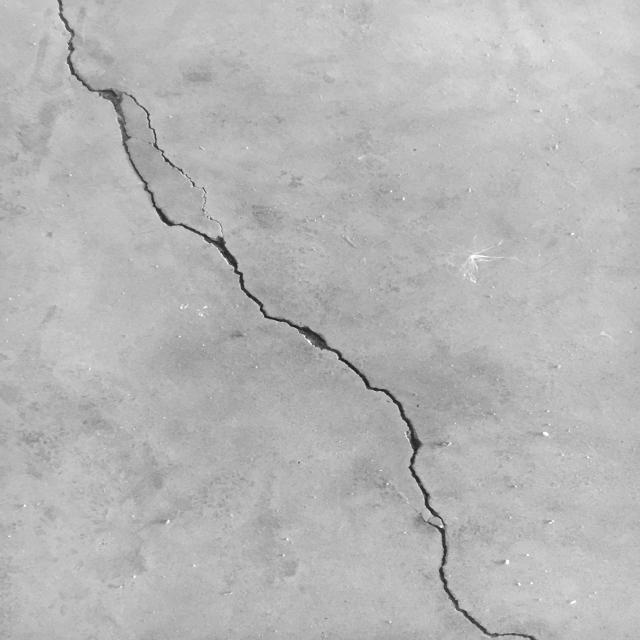SurfaceCrack: (5, 1, 617, 640)
